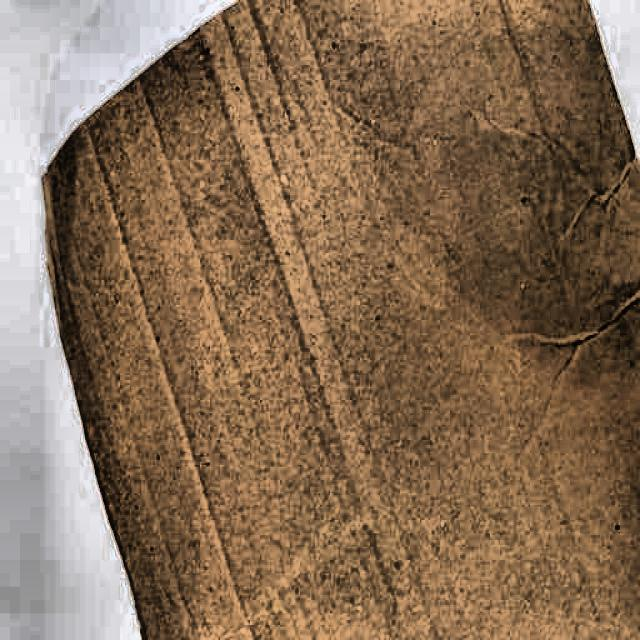cardboard: (40, 0, 639, 638)
